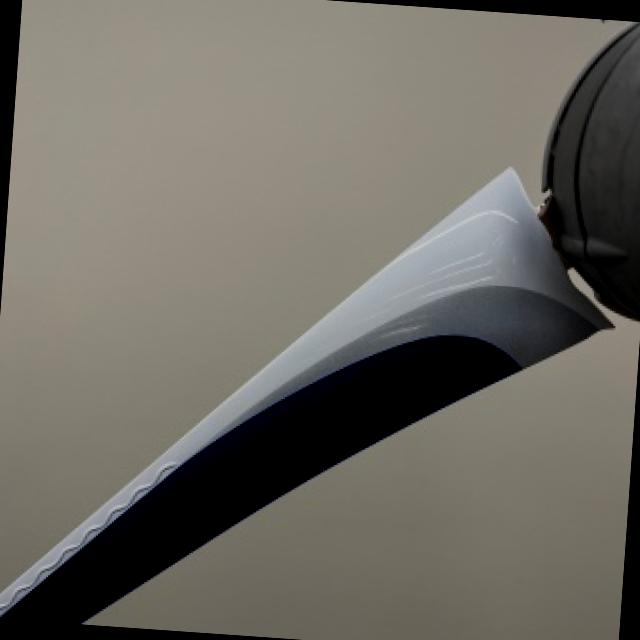healthy: (0, 0, 630, 587), (94, 308, 640, 640)
